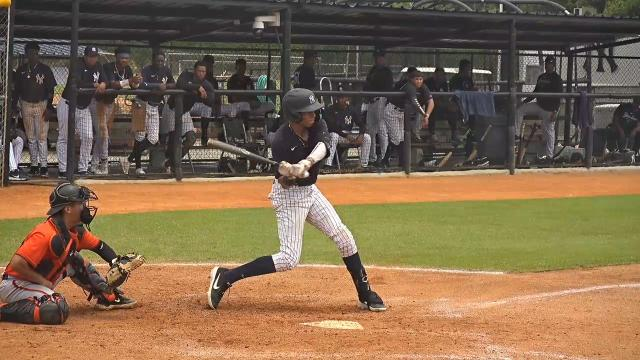baseball bat: (209, 138, 283, 168)
